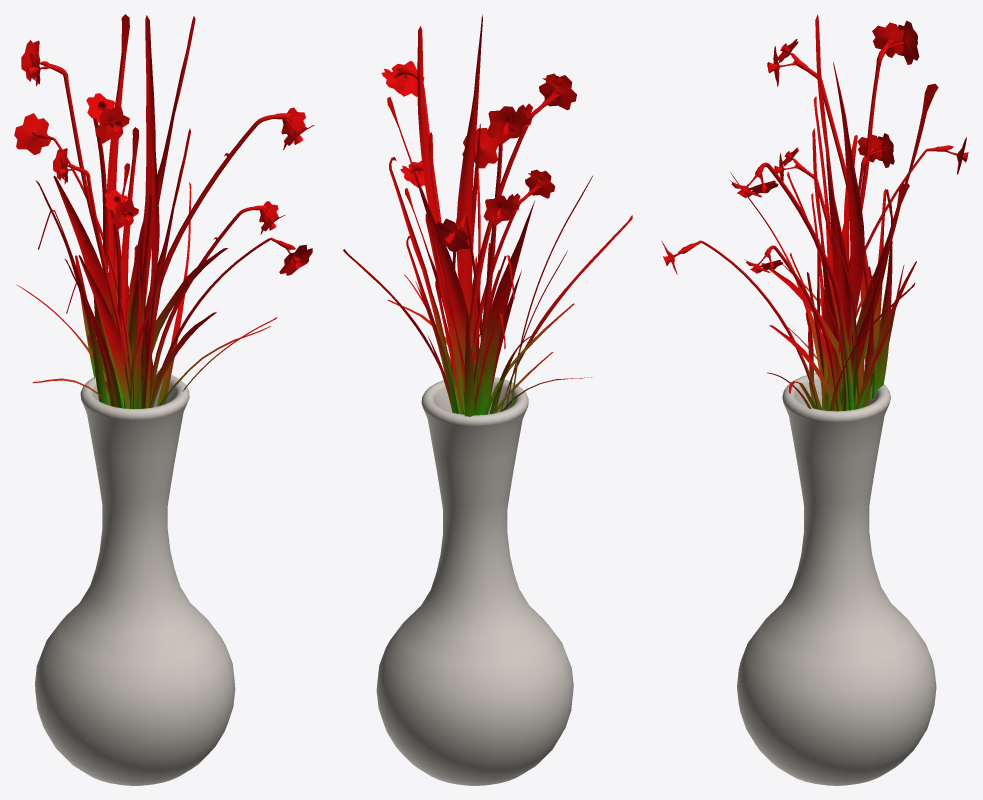
Rendered from 1710098084088-vase.glb.
3 views of the same model, side by side, from view 1: azimuth 30°, elevation 25°; view 2: azimuth 150°, elevation 25°; view 3: azimuth 270°, elevation 25° (orthographic).
Parts seen in each view (by area): view 1: Sphere, Plane.012; view 2: Sphere, Plane.012; view 3: Sphere, Plane.012.
Part boxes in pixels (x1,y1,x2,y2): Sphere: (35, 370, 235, 785); Plane.012: (14, 14, 314, 408); Sphere: (376, 377, 573, 785); Plane.012: (343, 14, 632, 416); Sphere: (737, 373, 936, 785); Plane.012: (661, 14, 968, 411).
Size of the model in its own units: 0.6993 by 2.1 by 0.7692.
